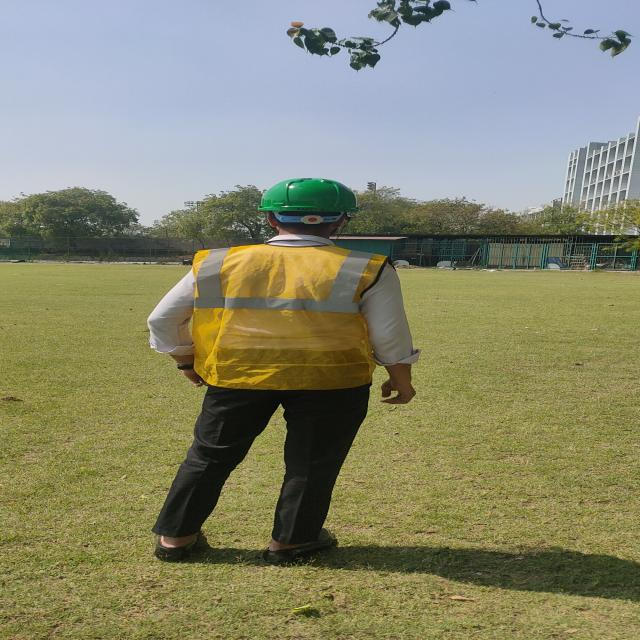safe: (152, 178, 412, 559)
